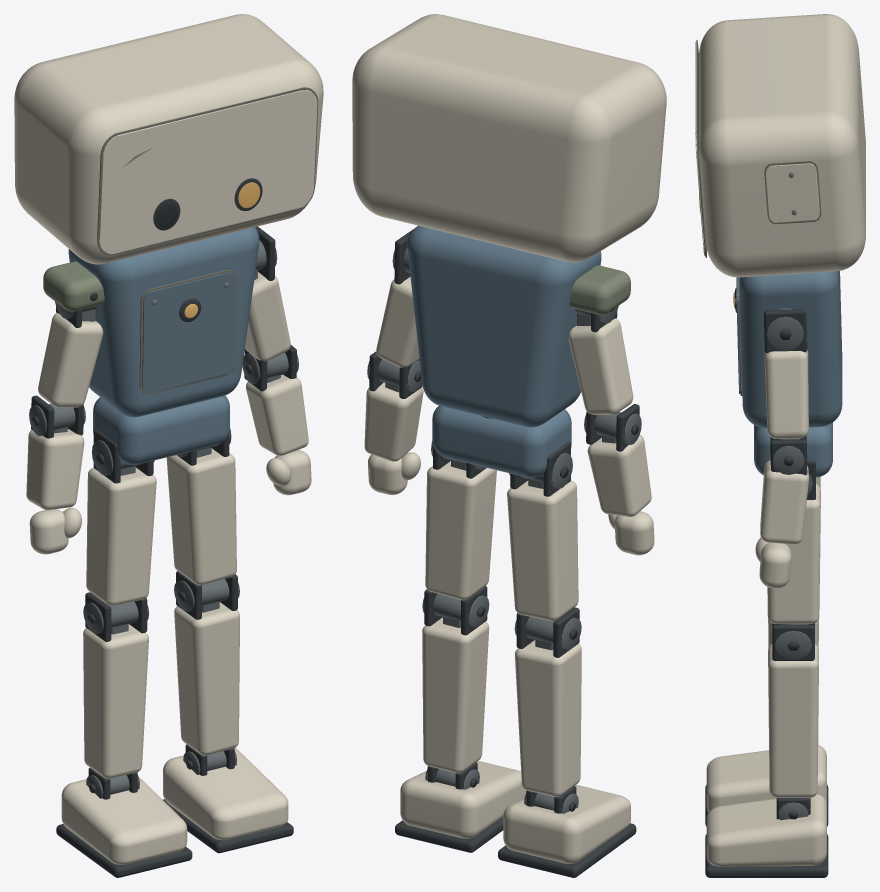
File: simple-robot-v5.glb
The picture shows the model from 3 angles, left to right: view 1: azimuth 30°, elevation 25°; view 2: azimuth 150°, elevation 25°; view 3: azimuth 270°, elevation 25°; orthographic projection.
Parts seen in each view (by area): view 1: Head, FacePanel, Torso, ChestHatch, LeftShin, RightShin, LeftThigh, RightThigh, LeftFoot, RightFoot, Pelvis, LeftUpperArm (+18 smaller); view 2: Head, Torso, LeftShin, RightShin, LeftThigh, RightThigh, Pelvis, LeftFoot, RightFoot, LeftUpperArm, LeftForearm, RightForearm (+14 smaller); view 3: Head, Torso, RightFoot, RightShin, RightThigh, RightUpperArm, LeftFoot, RightForearm, SideHatchCover, RightShoulder, Pelvis, RightSole (+7 smaller).
Boxes of the visible parts, <box> form: Head: <box>14,14,323,264</box>; FacePanel: <box>99,90,317,254</box>; Torso: <box>68,227,259,417</box>; ChestHatch: <box>142,272,236,392</box>; LeftShin: <box>83,624,148,778</box>; RightShin: <box>174,602,239,755</box>; LeftThigh: <box>86,467,156,605</box>; RightThigh: <box>166,448,236,585</box>; LeftFoot: <box>61,776,187,864</box>; RightFoot: <box>163,747,288,840</box>; Pelvis: <box>93,395,229,464</box>; LeftUpperArm: <box>38,313,103,407</box>; Head: <box>352,14,666,262</box>; Torso: <box>407,225,601,427</box>; LeftShin: <box>515,640,581,796</box>; RightShin: <box>422,617,489,773</box>; LeftThigh: <box>507,480,578,621</box>; RightThigh: <box>425,461,496,600</box>; Pelvis: <box>432,405,571,477</box>; LeftFoot: <box>503,784,630,863</box>; RightFoot: <box>400,760,526,838</box>; LeftUpperArm: <box>568,318,633,414</box>; LeftForearm: <box>587,434,651,516</box>; RightForearm: <box>364,382,423,461</box>; Head: <box>699,14,865,277</box>; Torso: <box>739,271,842,427</box>; RightFoot: <box>706,794,826,866</box>; RightShin: <box>768,644,818,797</box>; RightThigh: <box>767,484,820,623</box>; RightUpperArm: <box>764,350,808,438</box>; LeftFoot: <box>706,745,826,812</box>; RightForearm: <box>760,460,808,544</box>; SideHatchCover: <box>766,163,819,222</box>; RightShoulder: <box>763,308,807,352</box>; Pelvis: <box>754,422,832,477</box>; RightSole: <box>705,834,828,877</box>.
Size of the model in its own units: 0.3537 by 0.9458 by 0.1897.
